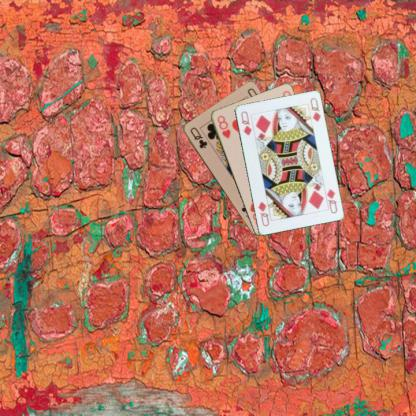8h: (214, 112, 232, 140)
Qc: (187, 124, 209, 150)
Qd: (321, 186, 338, 214), (238, 109, 253, 136)
